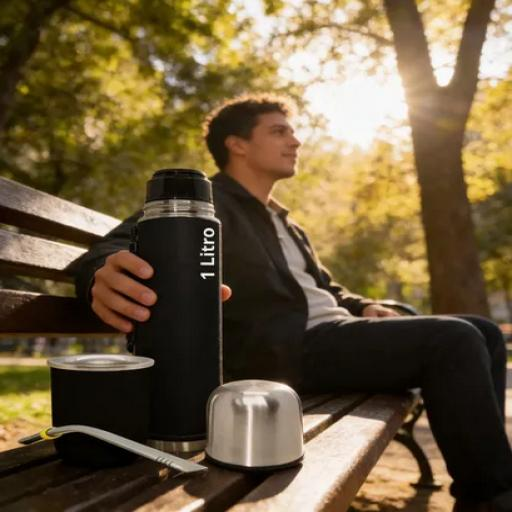mate: (49, 355, 153, 443)
termo: (128, 168, 222, 452)
